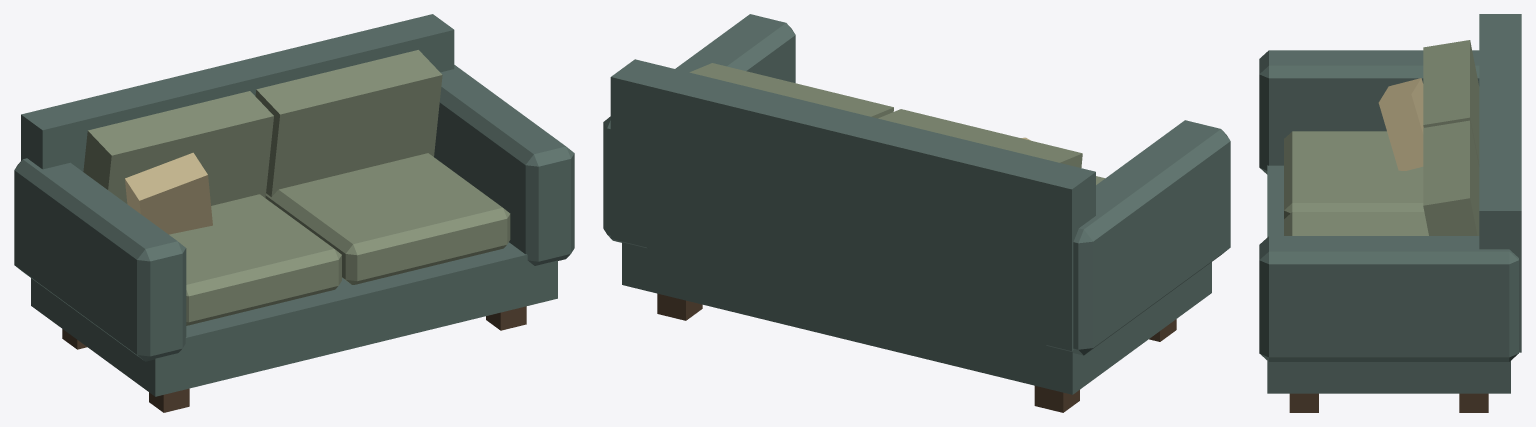
Rendered from prop-sofa.glb.
3 views of the same model, side by side, from view 1: azimuth 30°, elevation 25°; view 2: azimuth 150°, elevation 25°; view 3: azimuth 270°, elevation 25° (orthographic). The views are drawn at different scales.
Parts seen in each view (by area): view 1: upholstered_base, rounded_arm_-0.415, seat_cushion_0.18, back_cushion_0.18, back_frame, rounded_arm_0.415, seat_cushion_-0.18, back_cushion_-0.18, cream_throw_pillow, foot_-0.36_-0.16, foot_0.36_-0.16; view 2: back_frame, upholstered_base, rounded_arm_-0.415, rounded_arm_0.415, back_cushion_-0.18, back_cushion_0.18, foot_-0.36_0.16, foot_0.36_0.16; view 3: rounded_arm_0.415, rounded_arm_-0.415, back_frame, seat_cushion_-0.18, upholstered_base, back_cushion_0.18, back_cushion_-0.18, seat_cushion_0.18, cream_throw_pillow, foot_0.36_0.16, foot_0.36_-0.16.
Part boxes in pixels (box(x1,y1,x2,y2)): upholstered_base: box(31, 242, 557, 396); rounded_arm_-0.415: box(14, 158, 186, 361); seat_cushion_0.18: box(265, 153, 510, 284); back_cushion_0.18: box(255, 50, 442, 196); back_frame: box(21, 14, 454, 171); rounded_arm_0.415: box(434, 65, 574, 265); seat_cushion_-0.18: box(169, 194, 341, 325); back_cushion_-0.18: box(83, 91, 273, 205); cream_throw_pillow: box(125, 152, 212, 234); foot_-0.36_-0.16: box(149, 388, 189, 412); foot_0.36_-0.16: box(486, 306, 526, 330); back_frame: box(610, 59, 1095, 351); upholstered_base: box(622, 242, 1211, 394); rounded_arm_-0.415: box(1046, 120, 1230, 355); rounded_arm_0.415: box(603, 14, 795, 248); back_cushion_-0.18: box(878, 109, 1082, 167); back_cushion_0.18: box(689, 63, 893, 118); foot_-0.36_0.16: box(1034, 386, 1079, 412); foot_0.36_0.16: box(657, 293, 702, 320); rounded_arm_0.415: box(1259, 236, 1518, 361); rounded_arm_-0.415: box(1259, 50, 1479, 174); back_frame: box(1479, 14, 1521, 352); seat_cushion_-0.18: box(1284, 131, 1424, 218); upholstered_base: box(1267, 165, 1510, 393); back_cushion_0.18: box(1423, 120, 1479, 235); back_cushion_-0.18: box(1423, 40, 1479, 166); seat_cushion_0.18: box(1284, 212, 1428, 235); cream_throw_pillow: box(1378, 78, 1423, 170); foot_0.36_0.16: box(1459, 393, 1488, 412); foot_0.36_-0.16: box(1289, 393, 1318, 412).
Size of the model in its own units: 0.935 by 0.445 by 0.495.
